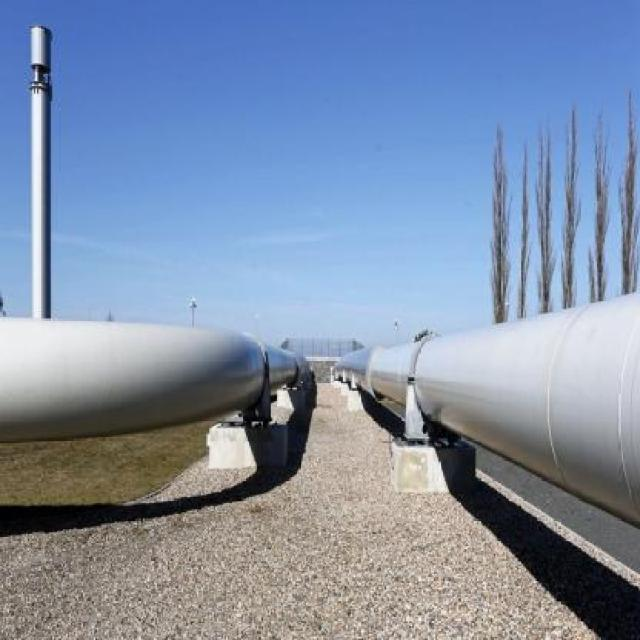gas: (335, 292, 640, 524), (0, 318, 307, 431)
